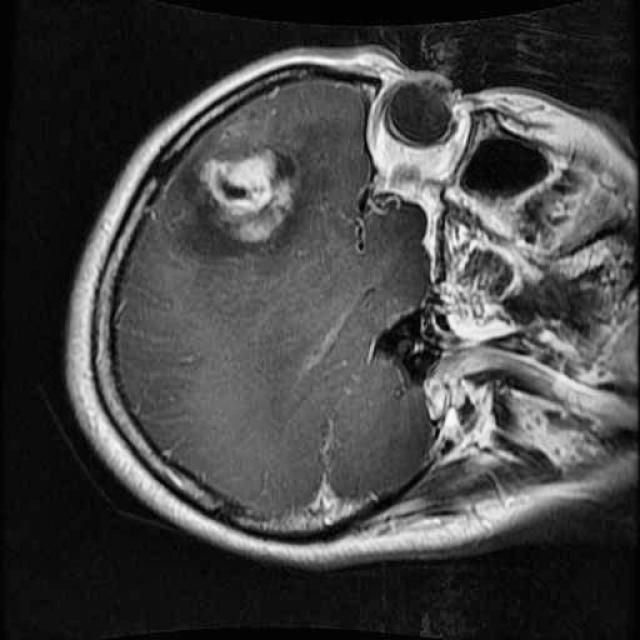Non-Tumor: (190, 135, 304, 255)
